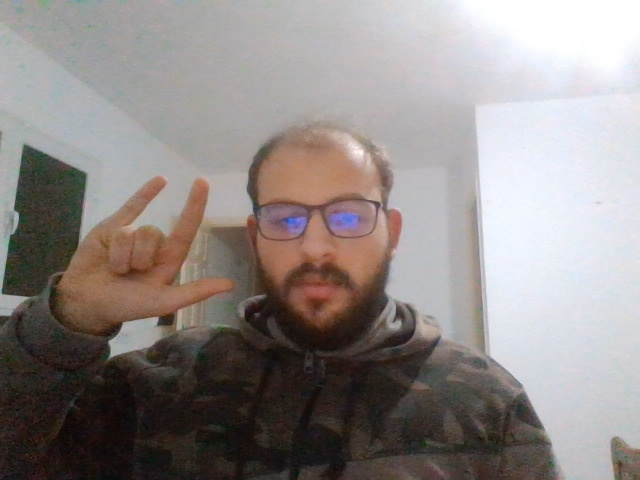I Love You: (80, 175, 230, 321)
